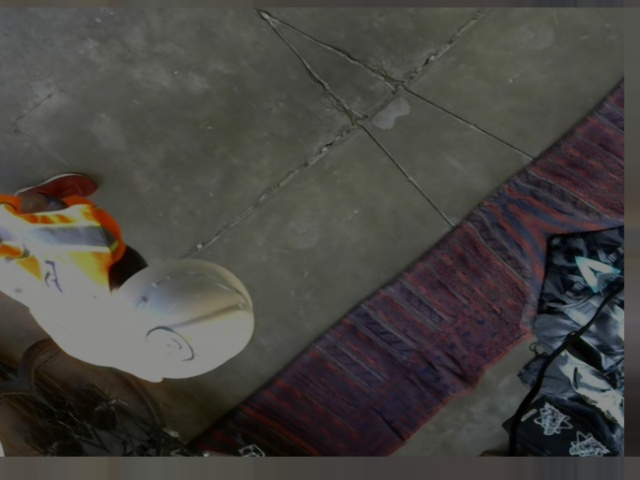three: (136, 320, 200, 371)
